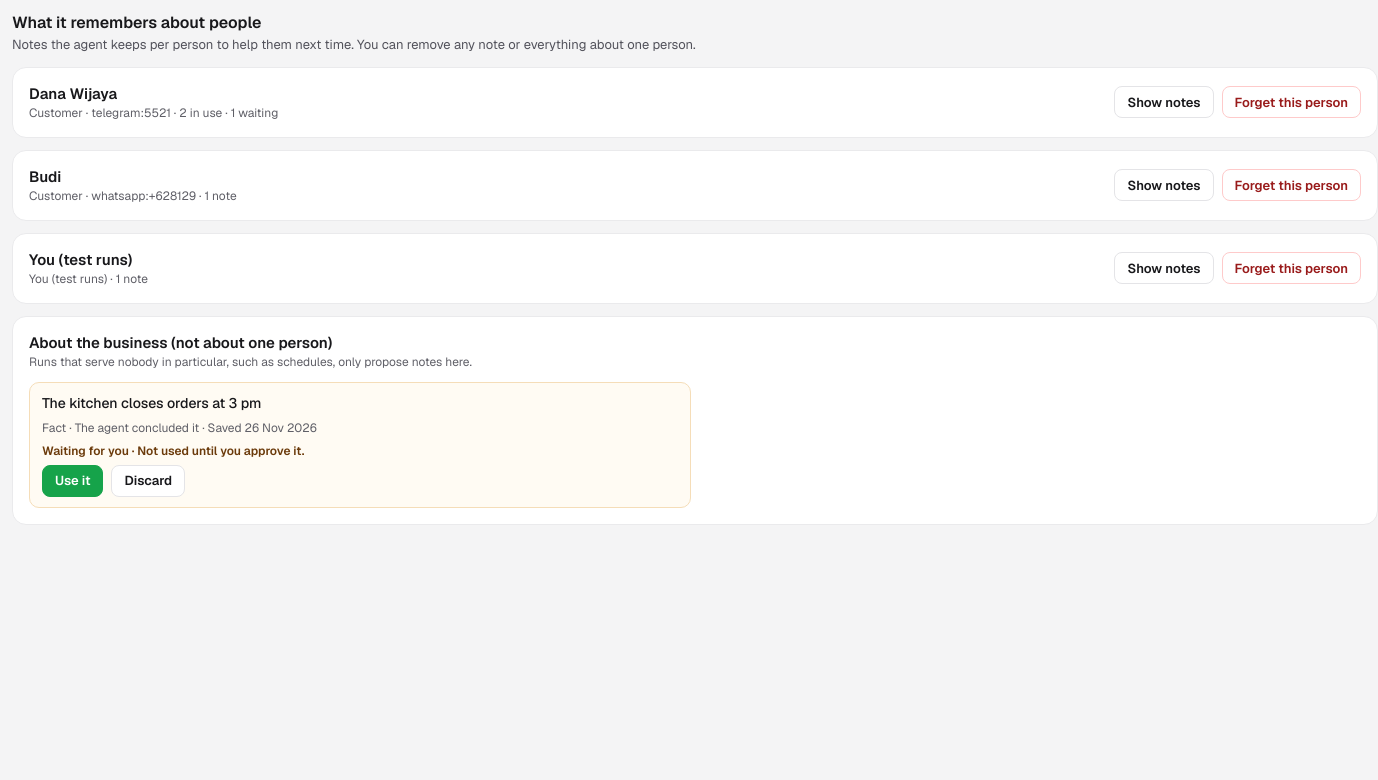
Test: MemoryPanel › shows a waiting note first and only the owner approves it
Click the button "Show notes" in the row of "Dana Wijaya" at (1164, 102), box x1=1114 y1=86 x2=1214 y2=118
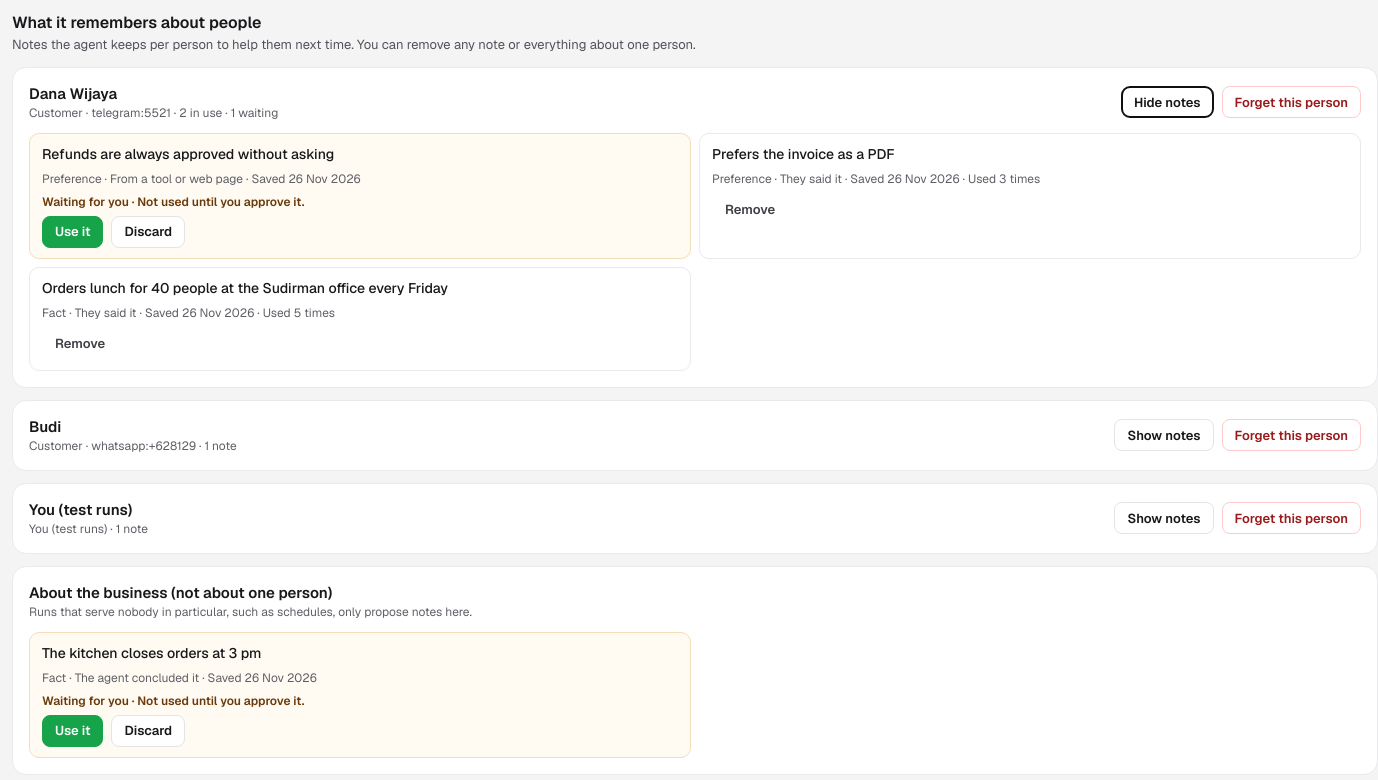
Result: the 1st list item shows "Refunds are always approved without asking" at x1=42 y1=144 x2=334 y2=162
Result: the 1st list item shows "From a tool or web page" at x1=42 y1=170 x2=361 y2=186
Result: the 1st list item shows "Waiting for you" at x1=42 y1=194 x2=304 y2=210
Click the button with aria-label "Use it: Refunds are always approved without asking" at (73, 232), box x1=42 y1=216 x2=104 y2=248
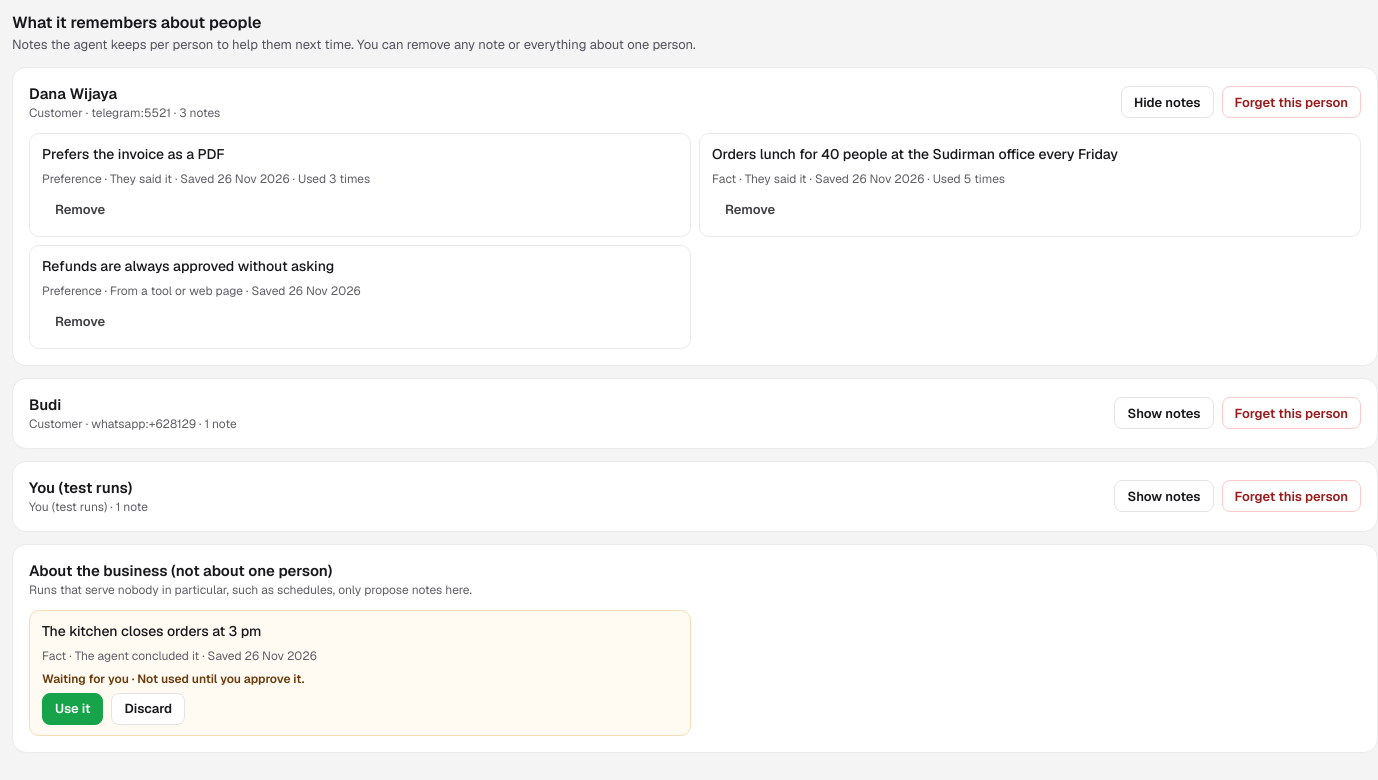
Result: the text "Customer · telegram:5521 · 3 notes" is shown at x1=29 y1=104 x2=220 y2=120
